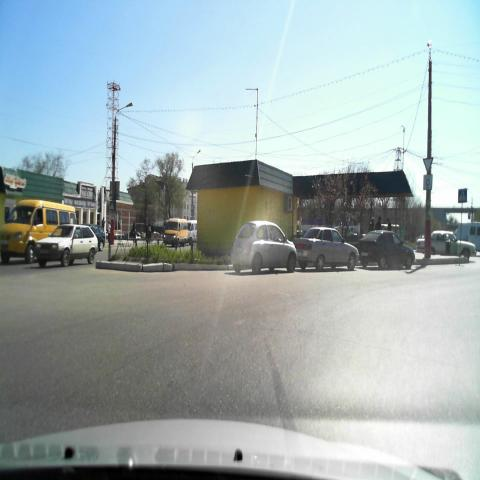8_13_1: (421, 172, 433, 193)
